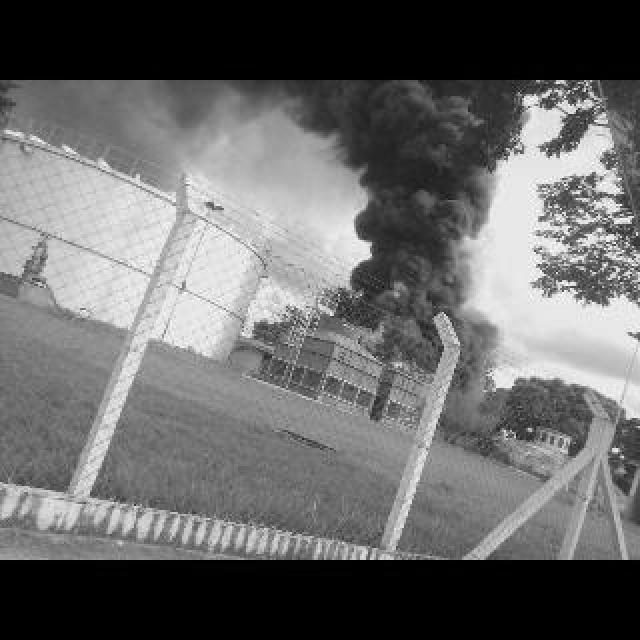Fire: (356, 278, 438, 388)
Smoke: (302, 82, 534, 320)
